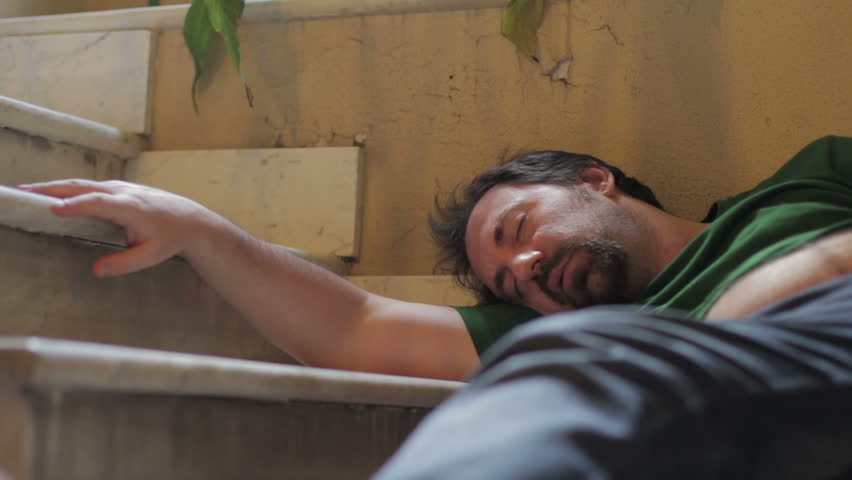collapsed: (9, 91, 852, 477)
